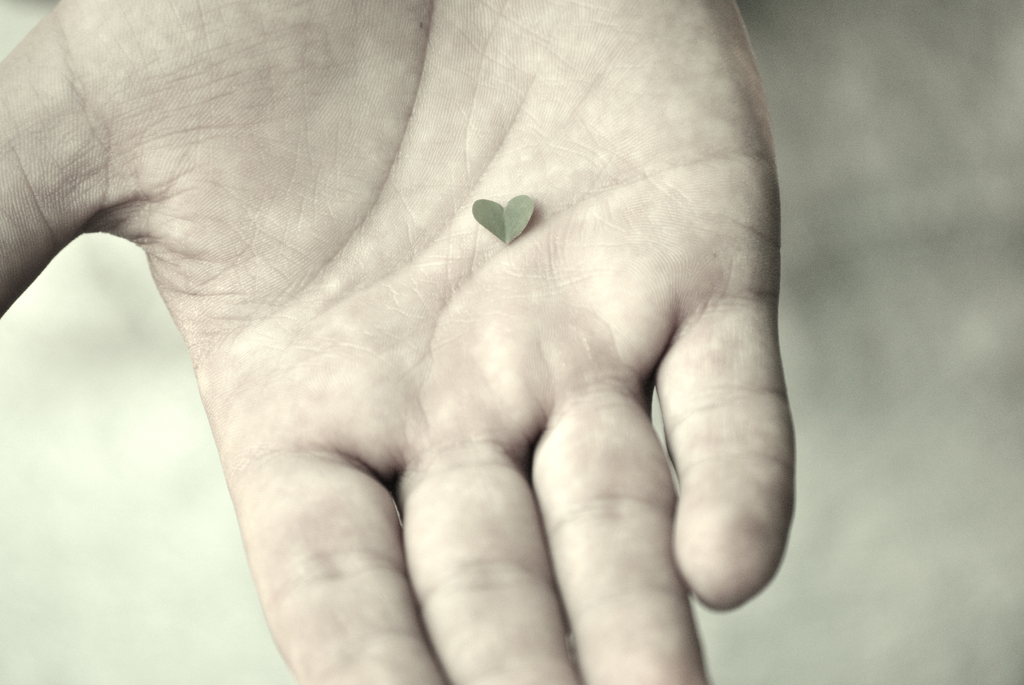Human_hand: (0, 0, 796, 684)
